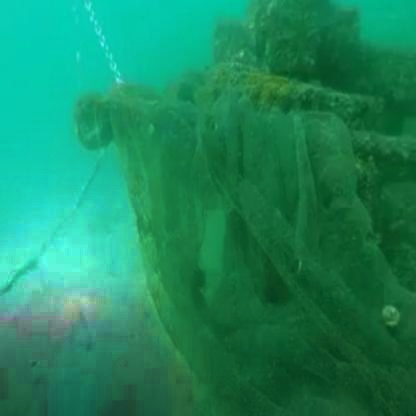plastic: (138, 80, 383, 350)
